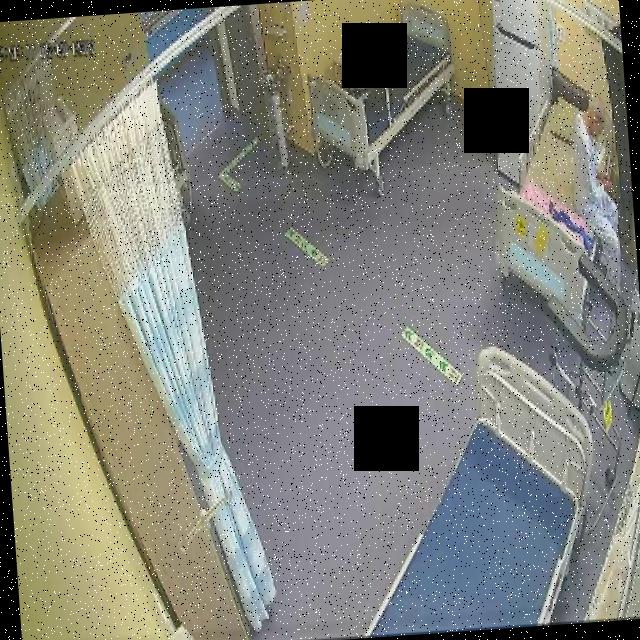bed: (348, 337, 608, 638), (485, 80, 626, 314), (301, 0, 458, 171)
patient: (566, 89, 630, 298)
sit: (566, 88, 630, 298)
